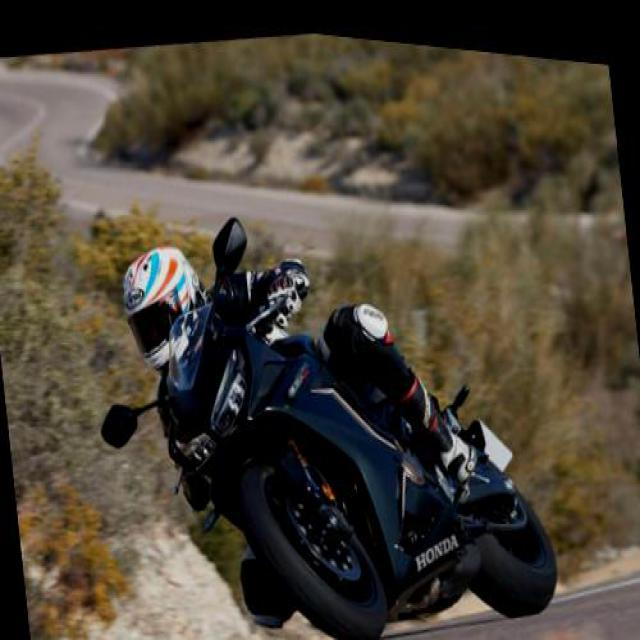CBR650R: (152, 224, 570, 638)
